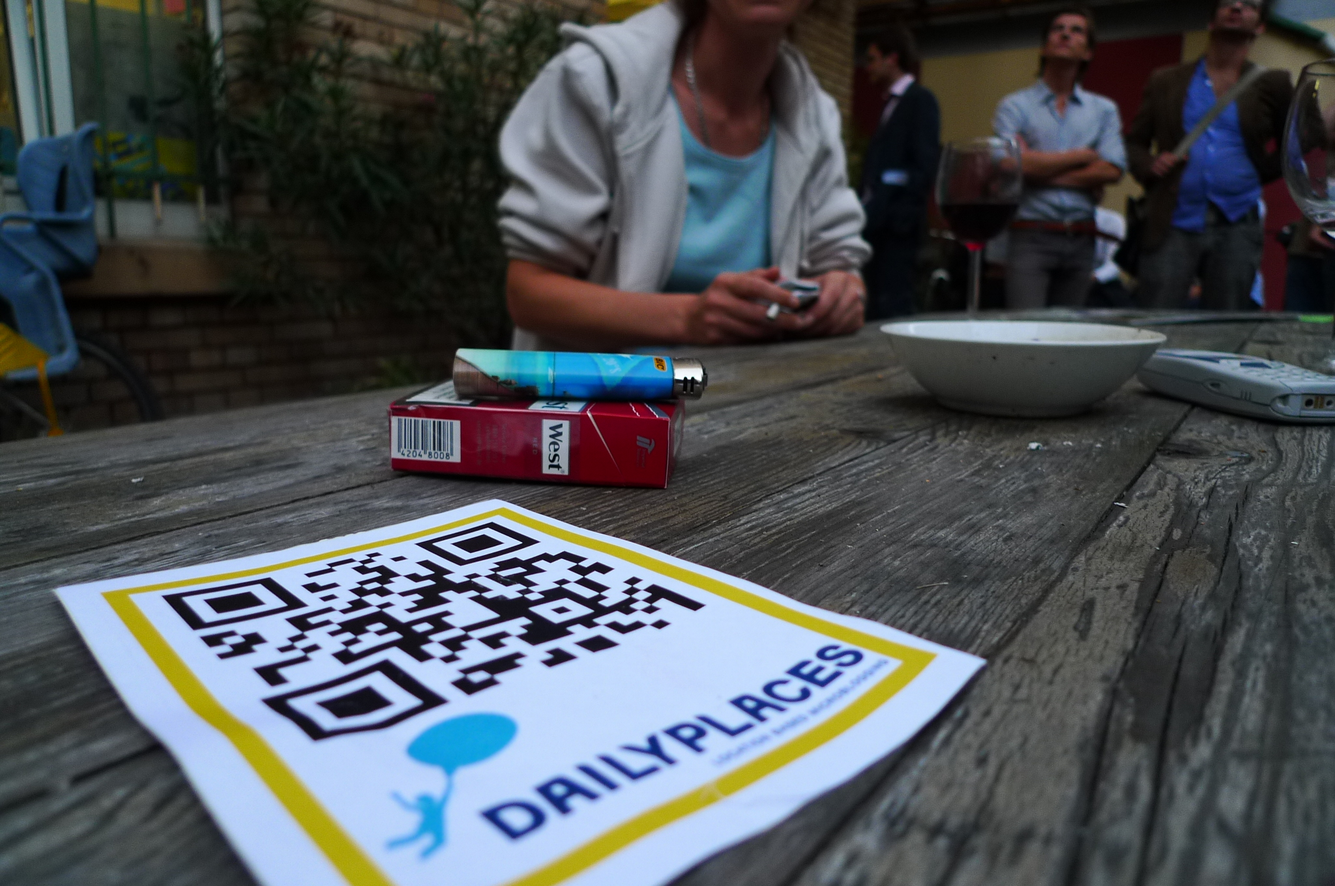QR-CODE: (161, 521, 706, 741)
